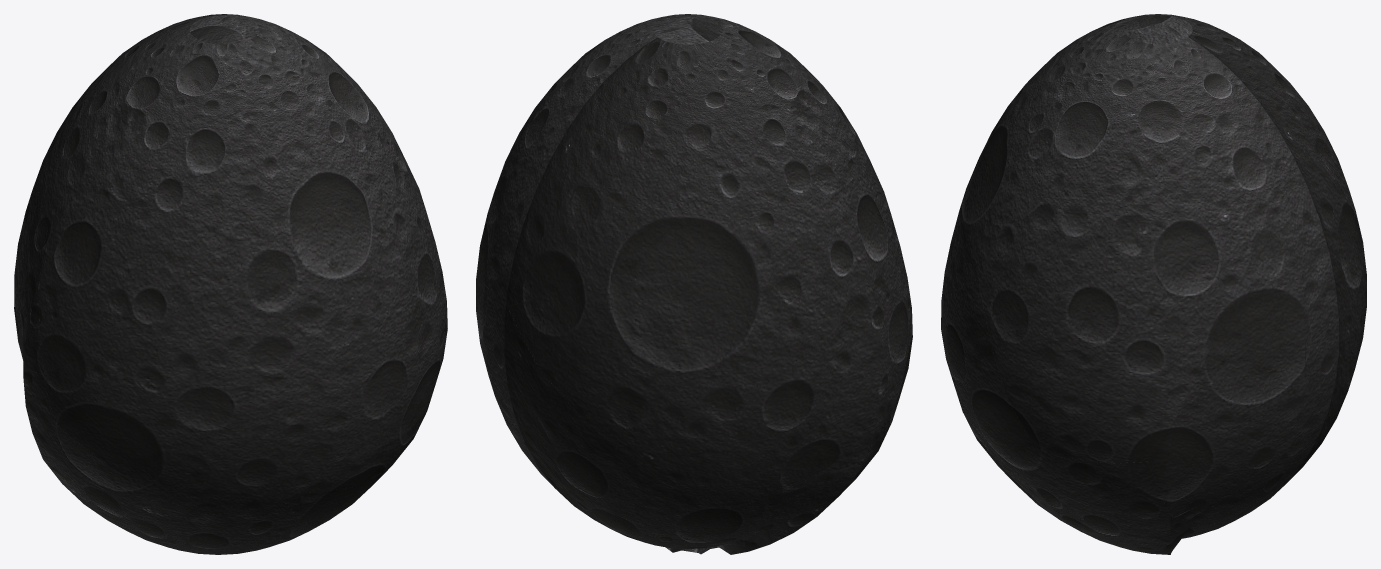
File: glancnovojaje.glb
3 renders of one model, left to right at view 1: azimuth 30°, elevation 25°; view 2: azimuth 150°, elevation 25°; view 3: azimuth 270°, elevation 25°, orthographic.
Visible parts, largest first — view 1: Easter_Egg1_cell.026, Easter_Egg1_cell.023, Easter_Egg1_cell.028, Easter_Egg1_cell.013, Easter_Egg1_cell.005, Easter_Egg1_cell.025, Easter_Egg1_cell.011, Easter_Egg1_cell.018, Easter_Egg1_cell.029, Easter_Egg1_cell.008, Easter_Egg1_cell, Easter_Egg1_cell.045 (+12 smaller); view 2: Easter_Egg1_cell.048, Easter_Egg1_cell.021, Easter_Egg1_cell.016, Easter_Egg1_cell.029, Easter_Egg1_cell.027, Easter_Egg1_cell.017, Easter_Egg1_cell.001, Easter_Egg1_cell.032, Easter_Egg1_cell.020, Easter_Egg1_cell.041, Easter_Egg1_cell.028, Easter_Egg1_cell.037 (+16 smaller); view 3: Easter_Egg1_cell, Easter_Egg1_cell.024, Easter_Egg1_cell.015, Easter_Egg1_cell.018, Easter_Egg1_cell.032, Easter_Egg1_cell.034, Easter_Egg1_cell.038, Easter_Egg1_cell.005, Easter_Egg1_cell.023, Easter_Egg1_cell.001, Easter_Egg1_cell.009, Easter_Egg1_cell.027 (+11 smaller).
Part boxes in pixels (<box>): Easter_Egg1_cell.026: <box>139,301,343,514</box>; Easter_Egg1_cell.023: <box>224,116,404,327</box>; Easter_Egg1_cell.028: <box>38,222,252,372</box>; Easter_Egg1_cell.013: <box>44,305,247,481</box>; Easter_Egg1_cell.005: <box>323,275,439,461</box>; Easter_Egg1_cell.025: <box>56,135,234,271</box>; Easter_Egg1_cell.011: <box>143,98,287,215</box>; Easter_Egg1_cell.018: <box>292,41,412,220</box>; Easter_Egg1_cell.029: <box>37,72,143,228</box>; Easter_Egg1_cell.008: <box>38,422,200,543</box>; Easter_Egg1_cell: <box>396,176,447,375</box>; Easter_Egg1_cell.045: <box>179,502,317,553</box>; Easter_Egg1_cell.048: <box>507,269,707,460</box>; Easter_Egg1_cell.021: <box>700,247,894,411</box>; Easter_Egg1_cell.016: <box>636,360,896,507</box>; Easter_Egg1_cell.029: <box>692,97,846,250</box>; Easter_Egg1_cell.027: <box>507,127,701,306</box>; Easter_Egg1_cell.017: <box>633,194,783,381</box>; Easter_Egg1_cell.001: <box>483,285,638,494</box>; Easter_Egg1_cell.032: <box>482,100,626,305</box>; Easter_Egg1_cell.020: <box>619,53,751,171</box>; Easter_Egg1_cell.041: <box>616,468,737,546</box>; Easter_Egg1_cell.028: <box>842,166,906,356</box>; Easter_Egg1_cell.037: <box>736,469,844,540</box>; Easter_Egg1_cell: <box>978,243,1211,463</box>; Easter_Egg1_cell.024: <box>1077,135,1282,345</box>; Easter_Egg1_cell.015: <box>1148,320,1305,517</box>; Easter_Egg1_cell.018: <box>1013,66,1147,249</box>; Easter_Egg1_cell.032: <box>1250,78,1338,320</box>; Easter_Egg1_cell.034: <box>1033,449,1172,540</box>; Easter_Egg1_cell.038: <box>1143,70,1260,170</box>; Easter_Egg1_cell.005: <box>941,260,1037,453</box>; Easter_Egg1_cell.023: <box>950,80,1044,265</box>; Easter_Egg1_cell.001: <box>1273,301,1362,482</box>; Easter_Egg1_cell.009: <box>1125,29,1225,91</box>; Easter_Egg1_cell.027: <box>1279,76,1354,300</box>.
Size of the model in its own units: 8.8 by 11.04 by 8.31.
Materials: 1 (1 with a texture image).
